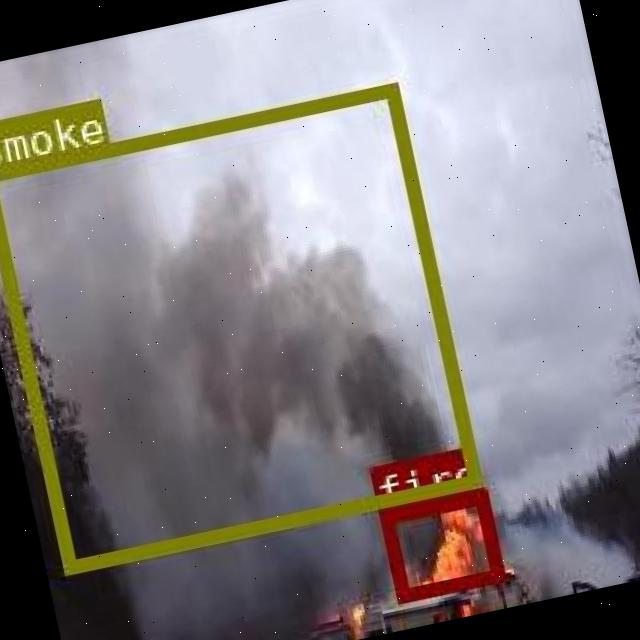fire: (378, 490, 502, 600)
smoke: (0, 81, 479, 572)
